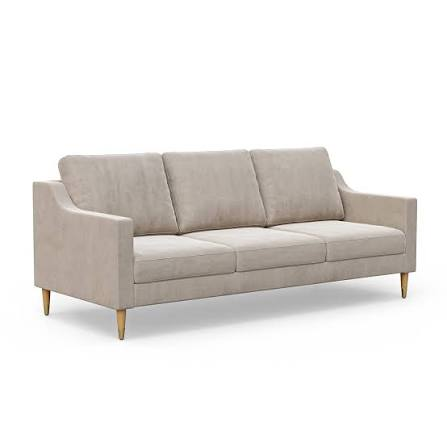3seatersofa: (34, 148, 415, 339)
backrest: (61, 148, 342, 235)
base: (132, 254, 407, 304)
leftarmrest: (335, 170, 416, 270)
leg: (117, 309, 125, 339), (42, 289, 50, 315), (400, 272, 408, 298)
rightarmrest: (35, 182, 131, 307)
seat: (135, 221, 403, 282)
